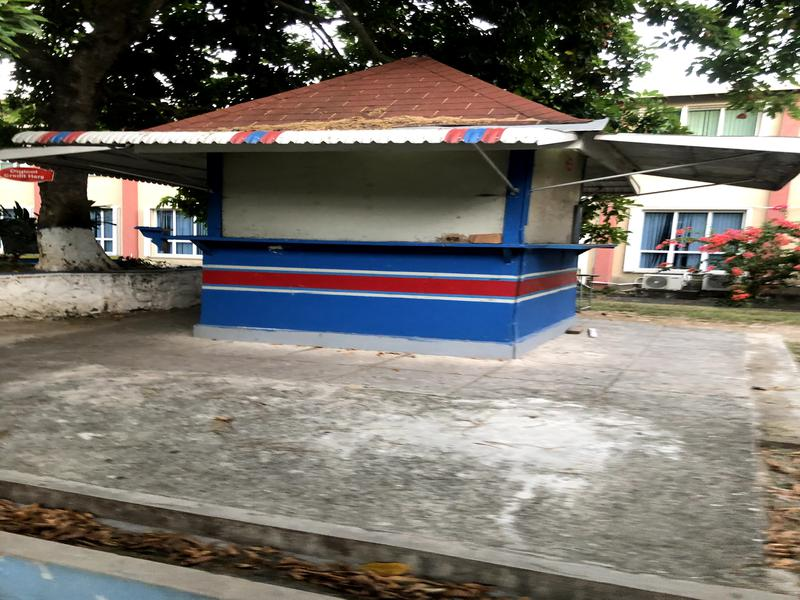18.0050609_-76.7496662_auntyjackie: (5, 33, 800, 363)
